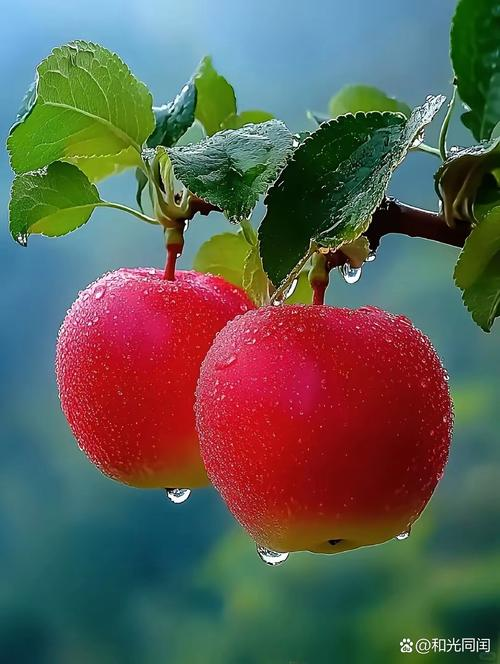ripe: (198, 300, 459, 562), (36, 249, 266, 520)
